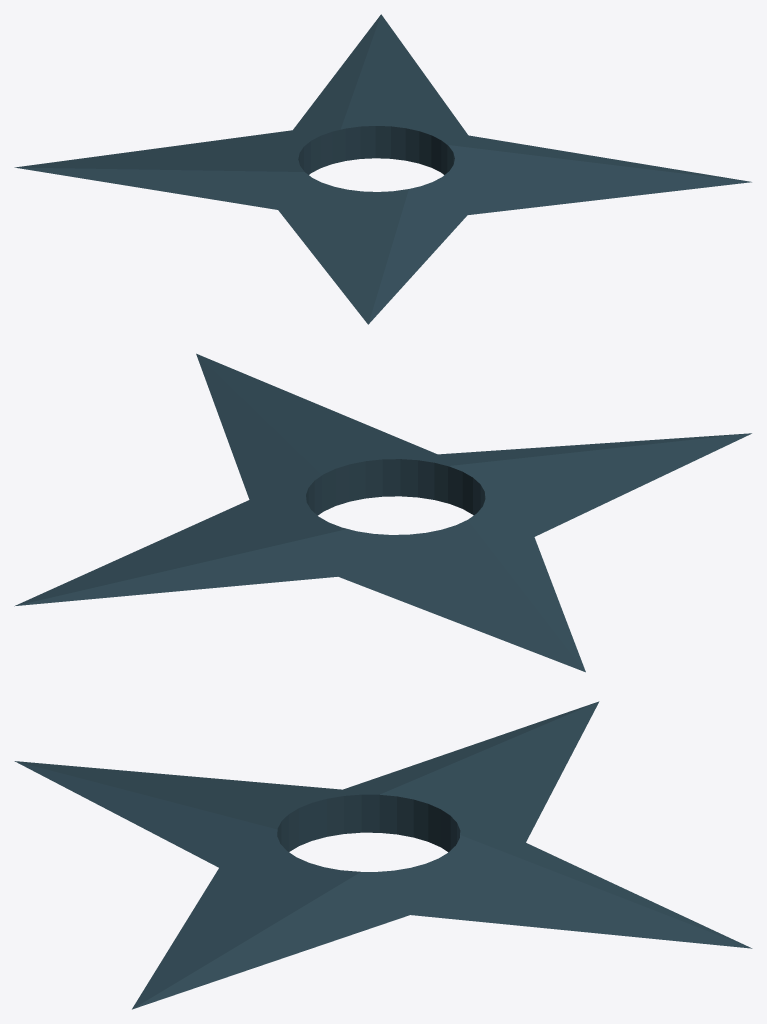
The model's file is Shuriken.fbx.
3 views of the same model, one above another, from view 1: azimuth 30°, elevation 25°; view 2: azimuth 150°, elevation 25°; view 3: azimuth 270°, elevation 25° (orthographic). The views are drawn at different scales.
Parts seen in each view (by area): view 1: image-removebg-preview (55); view 2: image-removebg-preview (55); view 3: image-removebg-preview (55).
Part boxes in pixels (box(x1,y1,x2,y2)): image-removebg-preview (55): box(14, 14, 751, 324); image-removebg-preview (55): box(14, 353, 751, 672); image-removebg-preview (55): box(14, 701, 752, 1009).
Bounding box in the file's own units: 168 × 9.65 × 170.
